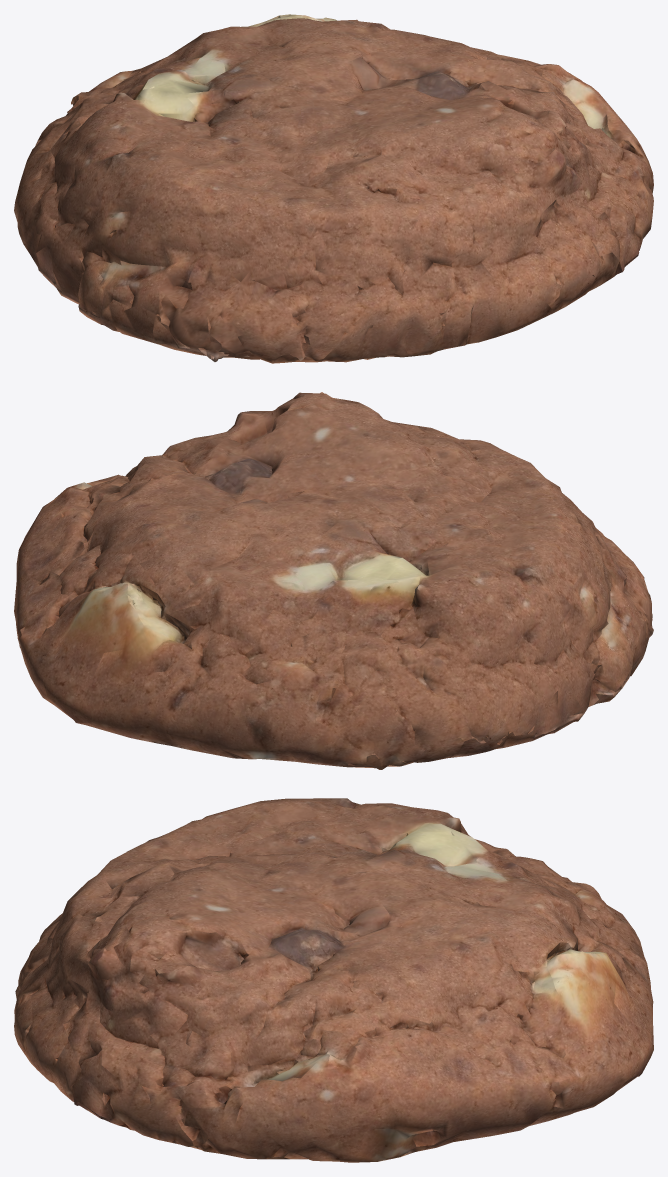
The model's file is cookie-browser.glb.
3 renders of one model, top to bottom at view 1: azimuth 30°, elevation 25°; view 2: azimuth 150°, elevation 25°; view 3: azimuth 270°, elevation 25°, orthographic. The views are drawn at different scales.
Visible parts, largest first — view 1: 3DCookie001_HQ-2K-JPG; view 2: 3DCookie001_HQ-2K-JPG; view 3: 3DCookie001_HQ-2K-JPG.
Part boxes in pixels (left/top/right/bottom): 3DCookie001_HQ-2K-JPG: left=14, top=14, right=653, bottom=363; 3DCookie001_HQ-2K-JPG: left=14, top=392, right=653, bottom=769; 3DCookie001_HQ-2K-JPG: left=14, top=798, right=653, bottom=1162.
Bounding box in the file's own units: 0.0821 × 0.0237 × 0.0808.
1 material, 1 textured.
